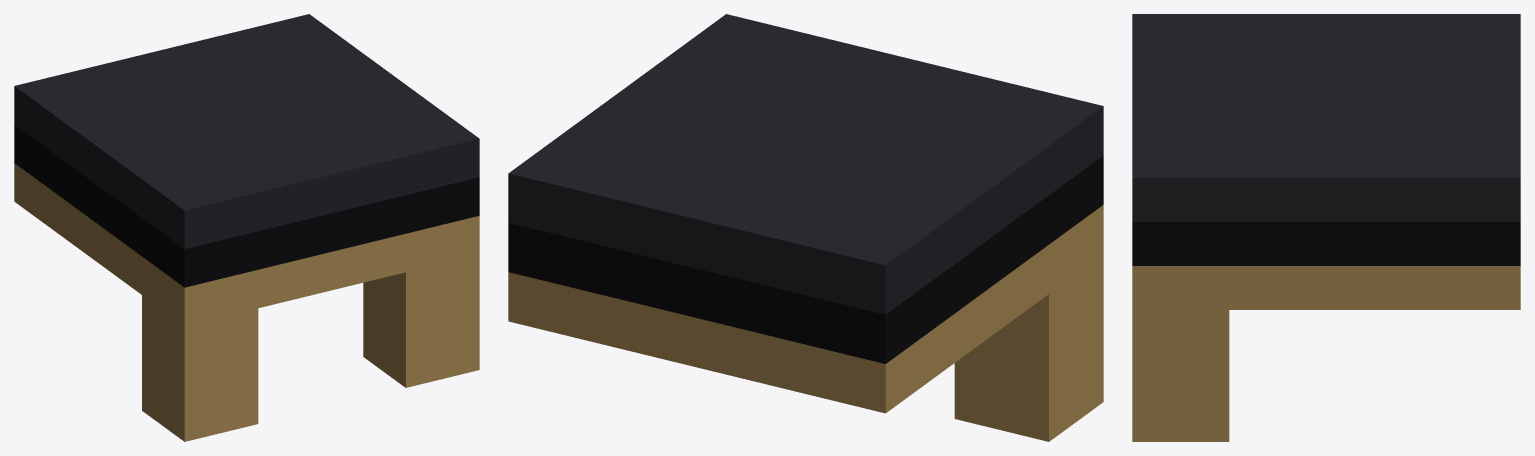
File: Black Bed.glb
The picture shows the model from 3 angles, left to right: view 1: azimuth 30°, elevation 25°; view 2: azimuth 150°, elevation 25°; view 3: azimuth 270°, elevation 25°; orthographic projection. The views are drawn at different scales.
Parts seen in each view (by area): view 1: Untitled; view 2: Untitled; view 3: Untitled.
Boxes of the visible parts, <box> form: Untitled: <box>14,14,479,441</box>; Untitled: <box>508,14,1103,441</box>; Untitled: <box>1132,14,1520,441</box>.
Size of the model in its own units: 1.6 by 1.2 by 1.6.
1 material, 1 textured.
